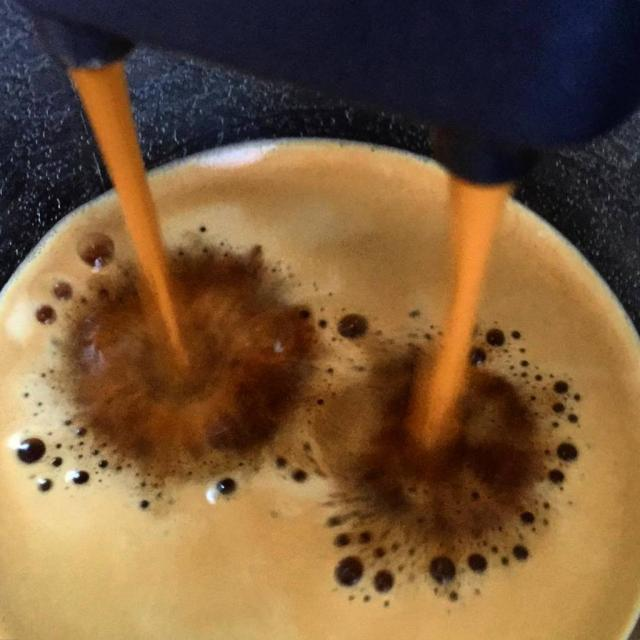Coffee: (0, 67, 639, 639)
